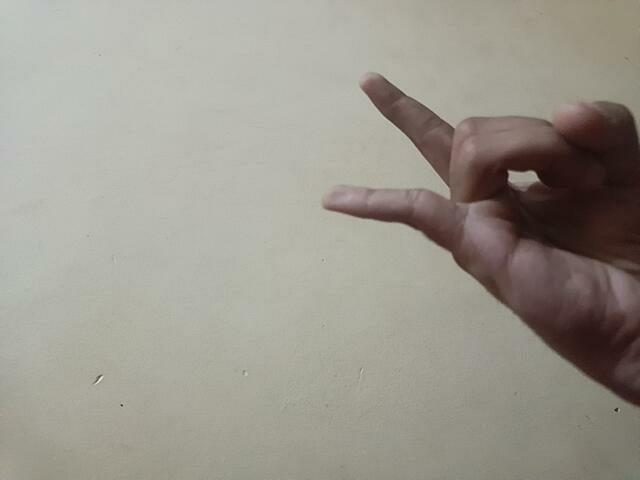Rock: (322, 72, 640, 406)
